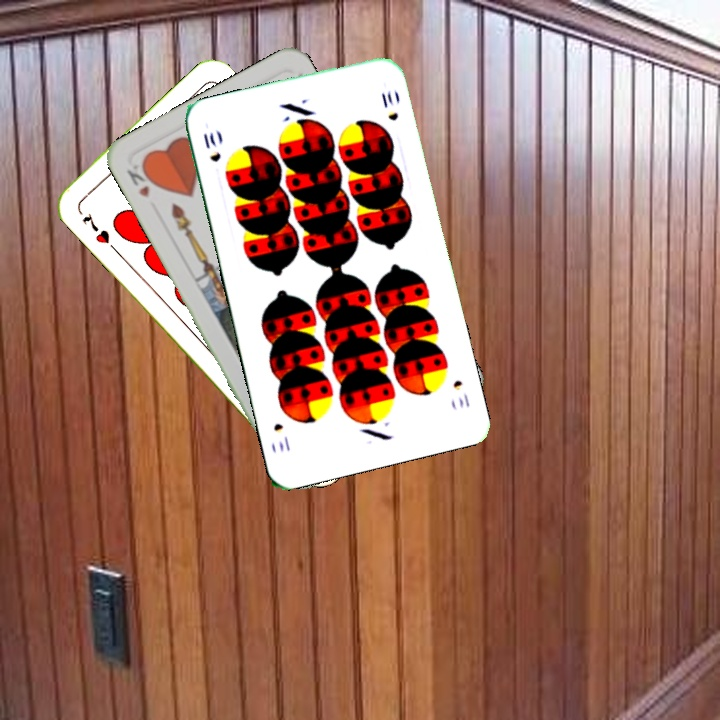H7: (77, 208, 120, 254)
HK: (122, 158, 159, 201)
S10: (199, 128, 223, 165), (449, 376, 472, 411)
